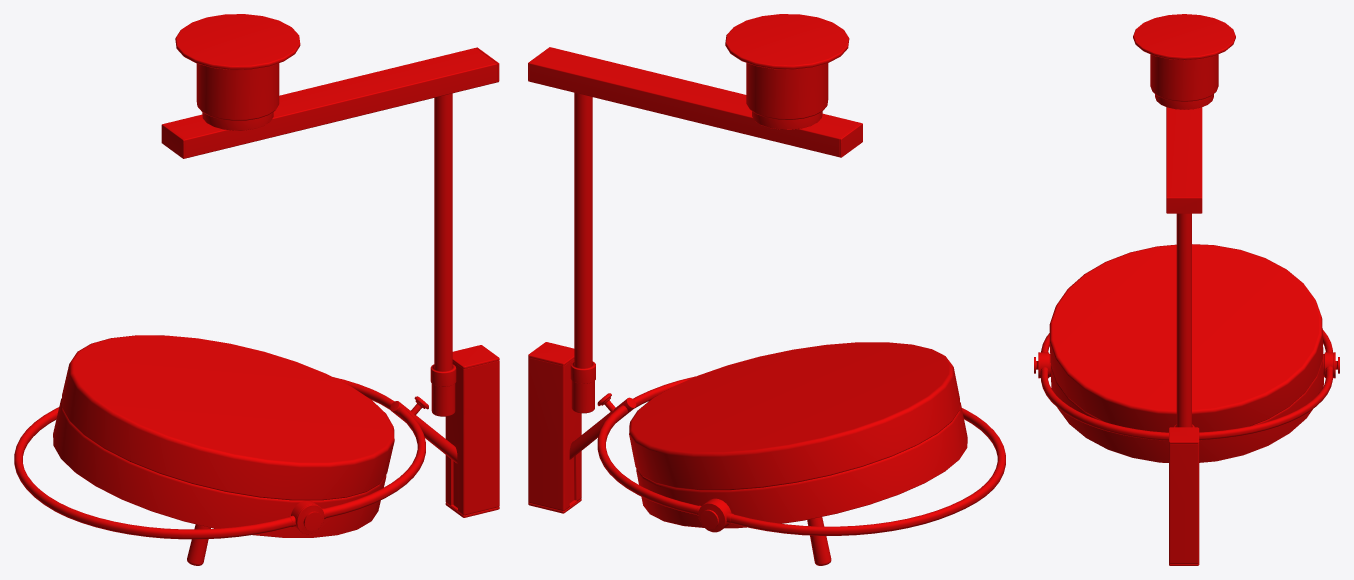
The model's file is Equipment_31.fbx.
The picture shows the model from 3 angles, left to right: view 1: azimuth 30°, elevation 25°; view 2: azimuth 150°, elevation 25°; view 3: azimuth 270°, elevation 25°; orthographic projection. The views are drawn at different scales.
Visible parts, largest first — view 1: L13:pCylinder18; view 2: L13:pCylinder18; view 3: L13:pCylinder18.
Boxes of the visible parts, x1,y1,x2,y2 form: L13:pCylinder18: [14, 14, 499, 565]; L13:pCylinder18: [528, 14, 1005, 565]; L13:pCylinder18: [1034, 14, 1339, 565].
Size of the model in its own units: 146 by 162 by 105.
